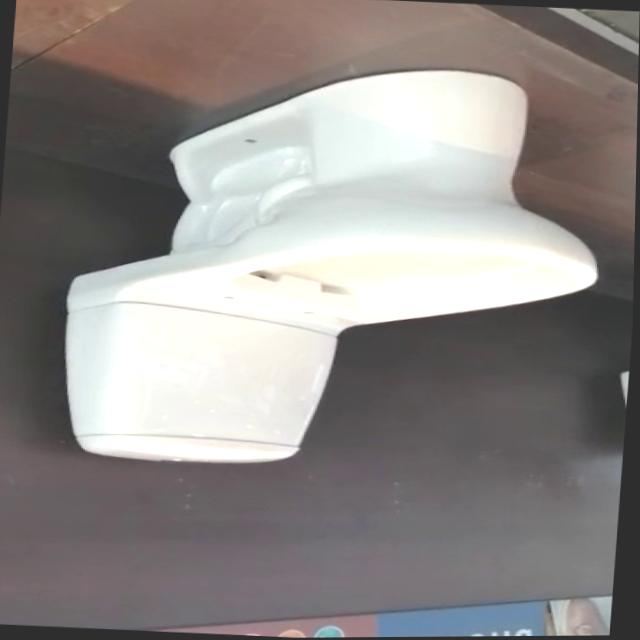toilet: (55, 51, 614, 487)
